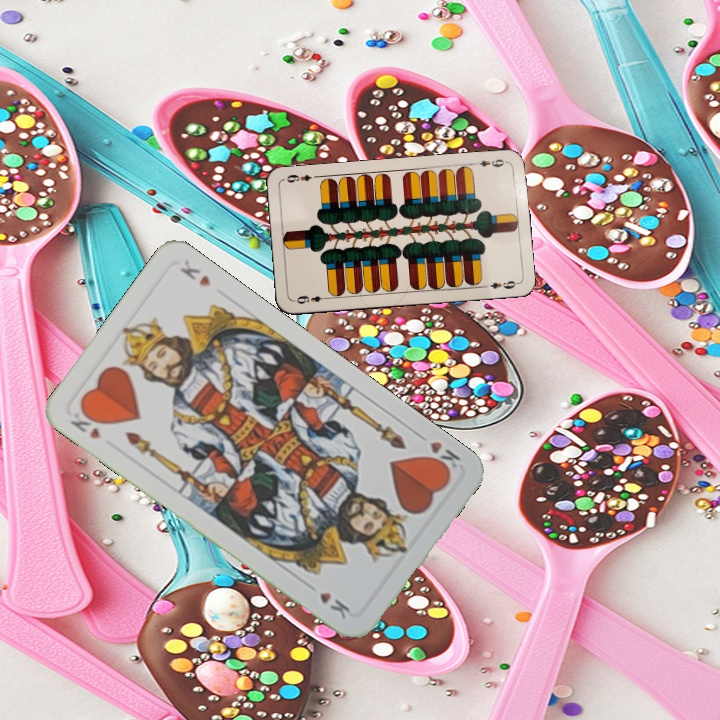E9: (469, 155, 509, 170), (292, 291, 331, 306)
HK: (412, 428, 463, 476), (66, 404, 106, 442)
